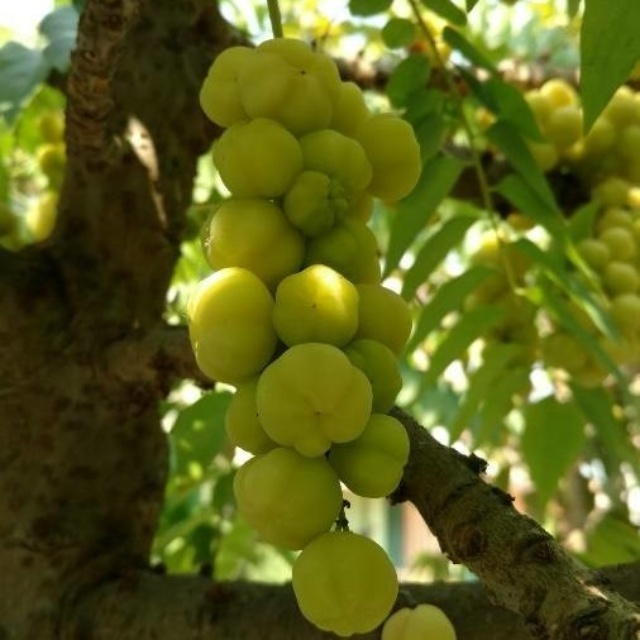obstacle: (176, 44, 584, 517)
